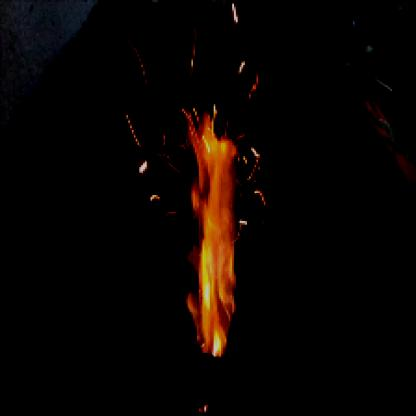Fire: (182, 95, 258, 362)
